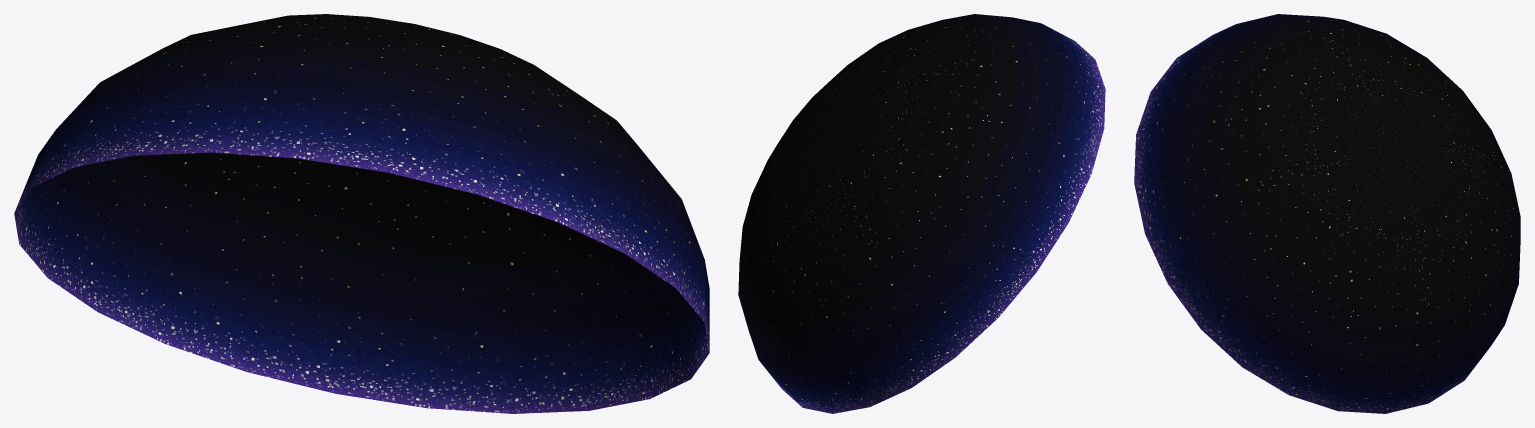
File: sky_02 #1249589.fbx
3 renders of one model, left to right at view 1: azimuth 30°, elevation 25°; view 2: azimuth 150°, elevation 25°; view 3: azimuth 270°, elevation 25°, orthographic. The views are drawn at different scales.
Parts seen in each view (by area): view 1: sky_02; view 2: sky_02; view 3: sky_02.
Part boxes in pixels (left/top/right/bottom): sky_02: left=14, top=14, right=709, bottom=413; sky_02: left=738, top=14, right=1105, bottom=413; sky_02: left=1134, top=14, right=1520, bottom=413.
Size of the model in its own units: 1883 by 1655 by 1883.
Materials: 1 (1 with a texture image).
